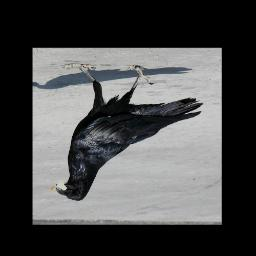Crow: (51, 62, 204, 201)
